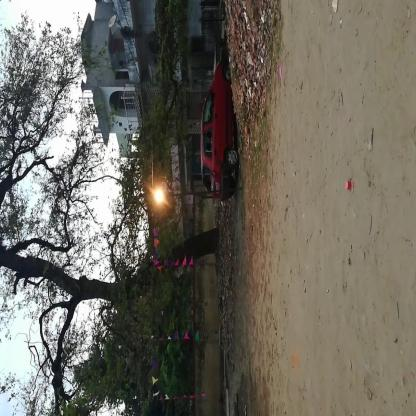other: (147, 174, 172, 219)
